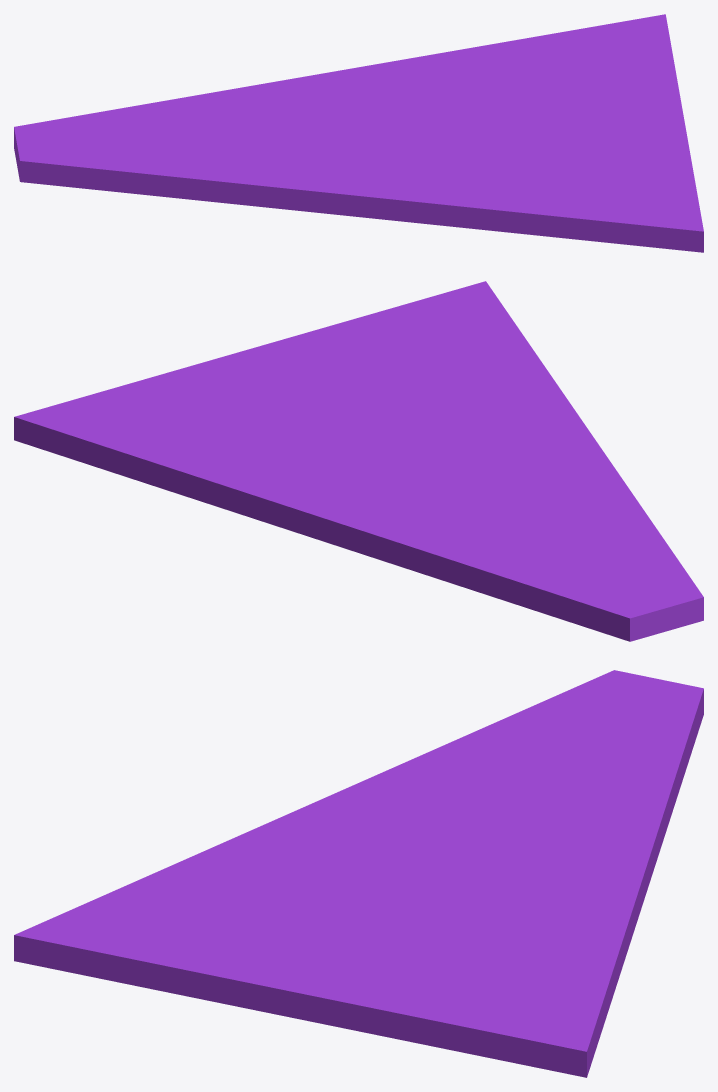
Rendered from StairsStep_4.fbx.
3 views of the same model, one above another, from view 1: azimuth 30°, elevation 25°; view 2: azimuth 150°, elevation 25°; view 3: azimuth 270°, elevation 25° (orthographic). The views are drawn at different scales.
Parts seen in each view (by area): view 1: StairsStep_4; view 2: StairsStep_4; view 3: StairsStep_4.
Boxes of the visible parts, x1,y1,x2,y2 form: StairsStep_4: [14, 14, 703, 252]; StairsStep_4: [14, 281, 703, 641]; StairsStep_4: [14, 670, 703, 1077].
Size of the model in its own units: 564 by 17.94 by 430.
